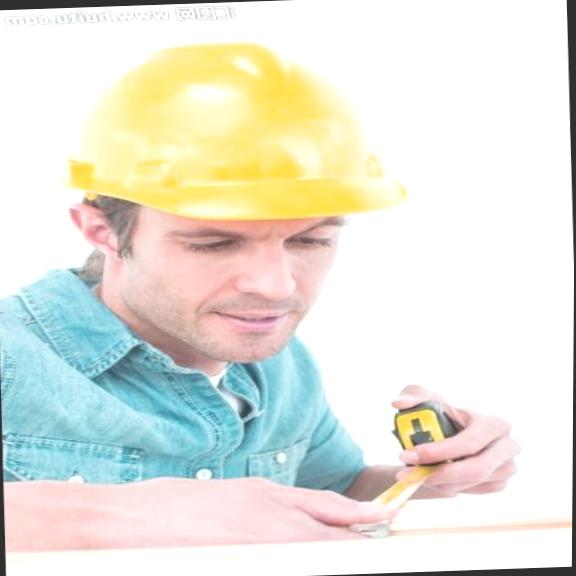no_safety_vest: (0, 261, 343, 483)
